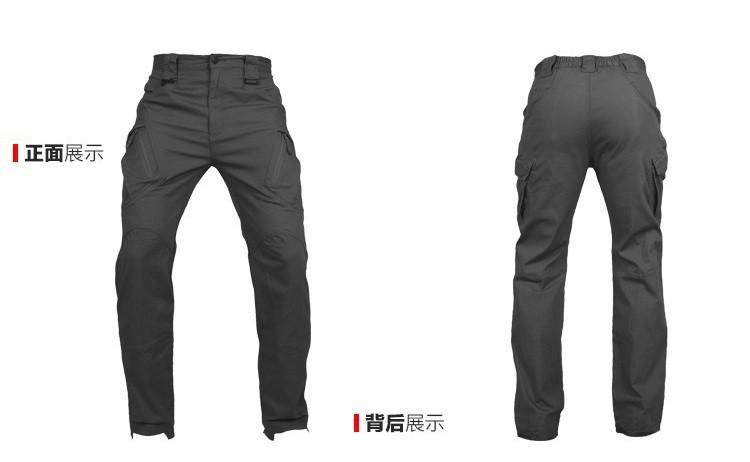pants: (113, 54, 310, 436), (513, 57, 665, 440)
